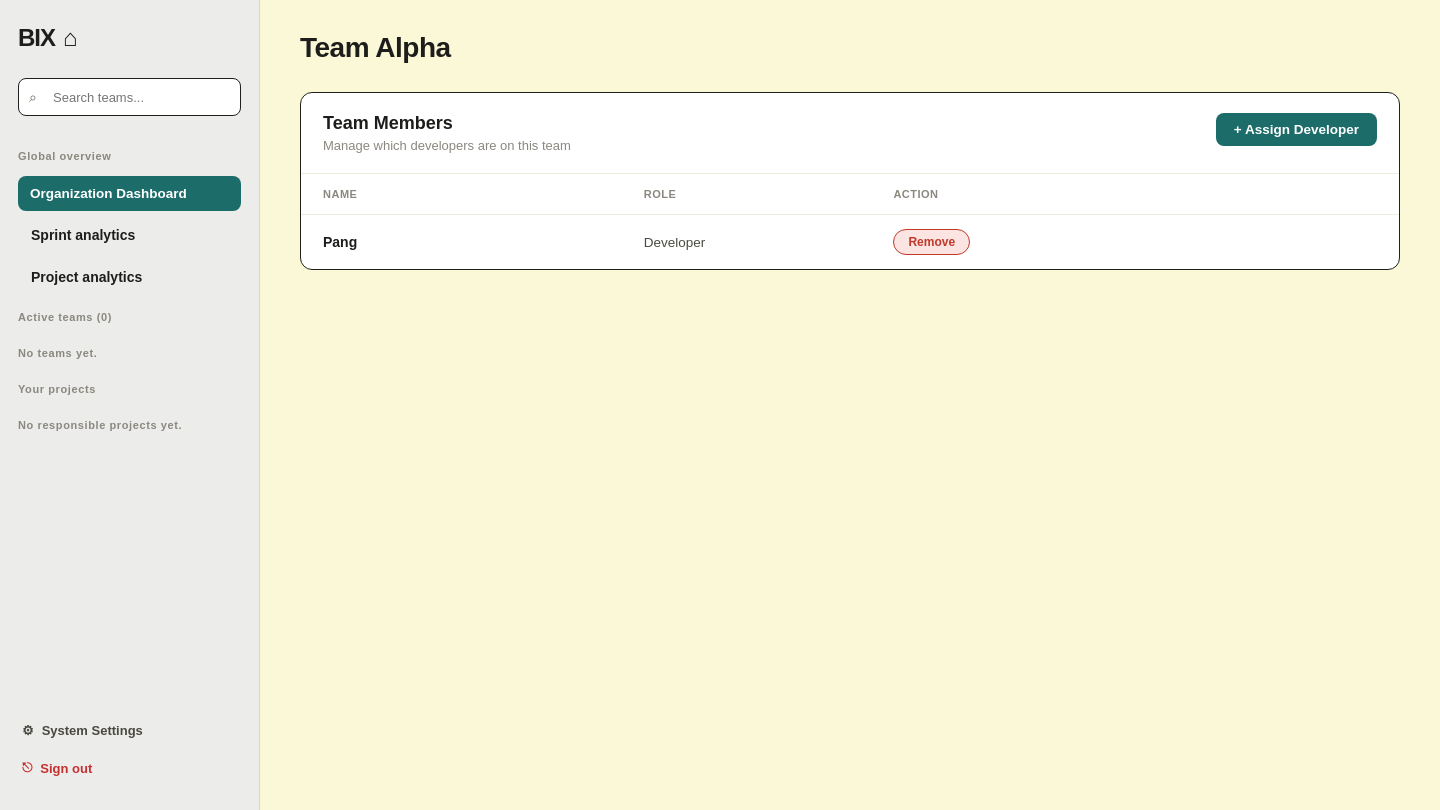
Test: TeamDetail (real data) › opens the assign modal and loads available developers for this team
This screenshot has width=1440, height=810.
Expected: the heading "Team Alpha" is shown, [300,32,451,63]
Click the button "+ Assign Developer": (1296, 130) [1216,113,1377,146]
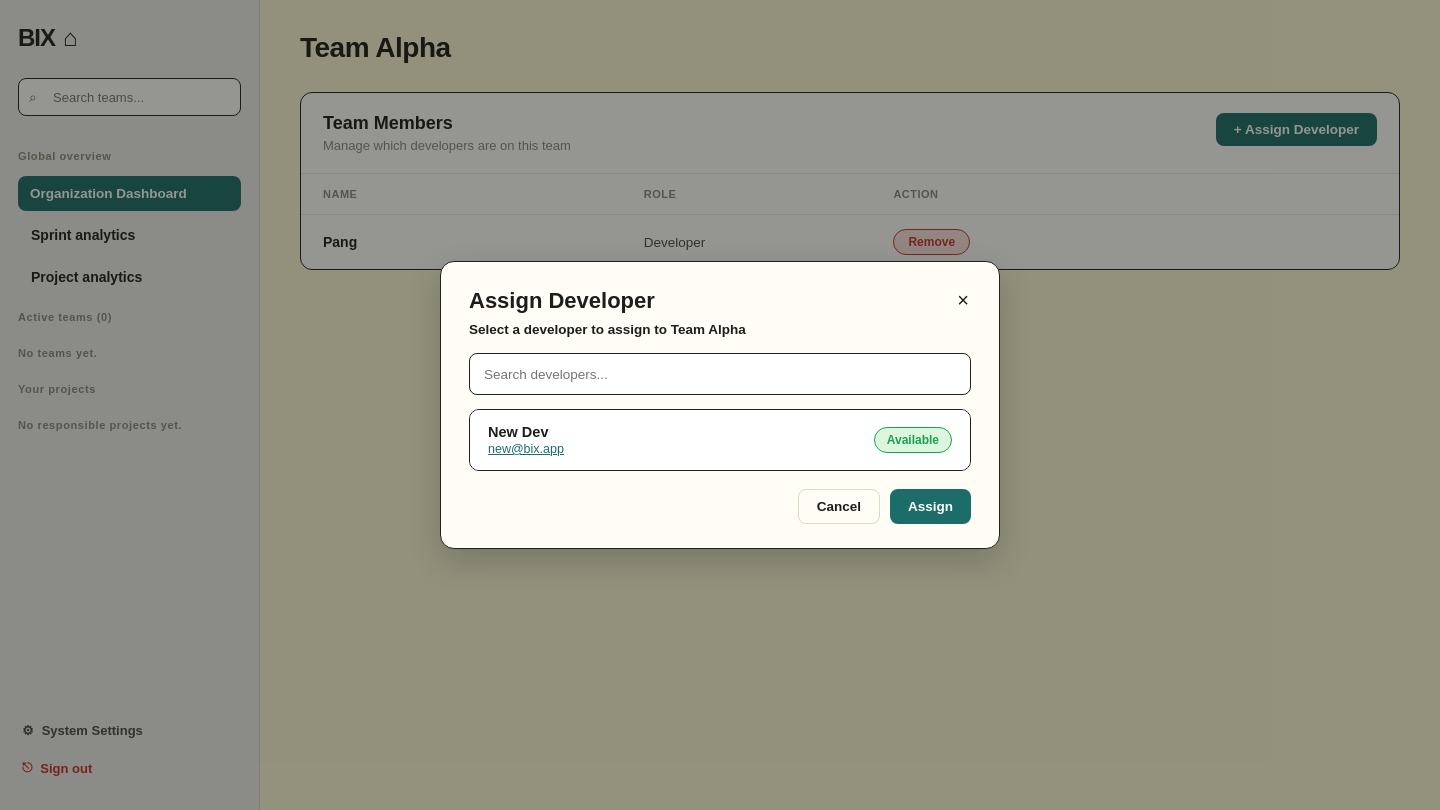
Now the text "New Dev" is shown, box [488,424,548,440]
